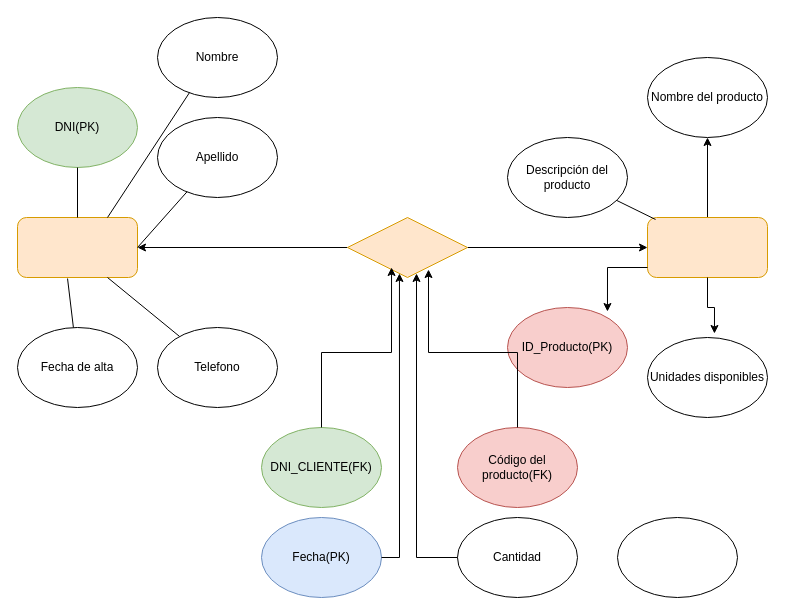
The diagram is 785 pixels wide and 615 high, and some of its shapes have lost their labels. Here are the shapes that lost their labels. From the top down, the centre of each, then its label:
At pixel 77 247: "Lector".
At pixel 407 247: "Prestamos".
At pixel 707 247: "Productos".
At pixel 677 557: "ID_VENTAS".
